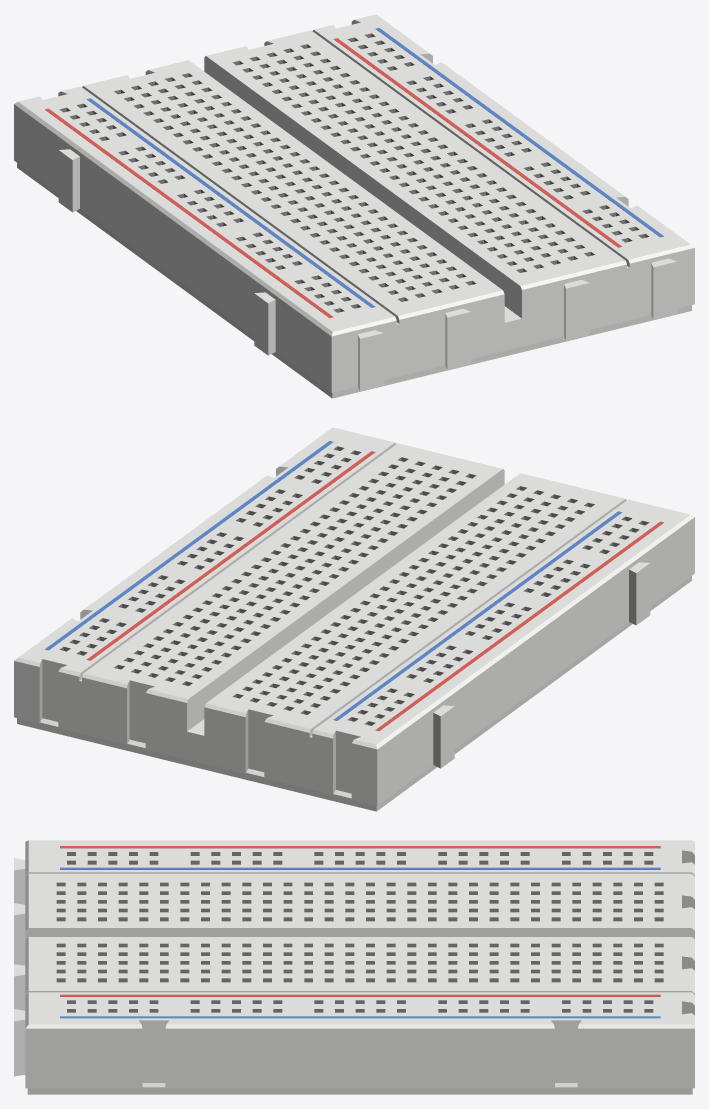
File: breadboard_400_point.glb
3 renders of one model, top to bottom at view 1: azimuth 30°, elevation 25°; view 2: azimuth 150°, elevation 25°; view 3: azimuth 270°, elevation 25°, orthographic. The views are drawn at different scales.
Visible parts, largest first — view 1: body, rail_lines, backing; view 2: body, rail_lines, backing; view 3: body, rail_lines, backing.
Boxes of the visible parts, <box> form: body: <box>14,14,694,392</box>; rail_lines: <box>45,28,663,318</box>; backing: <box>17,163,691,398</box>; body: <box>14,427,694,805</box>; rail_lines: <box>45,441,663,731</box>; backing: <box>17,576,691,811</box>; body: <box>14,840,694,1088</box>; rail_lines: <box>60,846,660,1018</box>; backing: <box>27,1083,692,1094</box>.
Bounding box in the file's own units: 0.0559 × 0.00953 × 0.0839.
